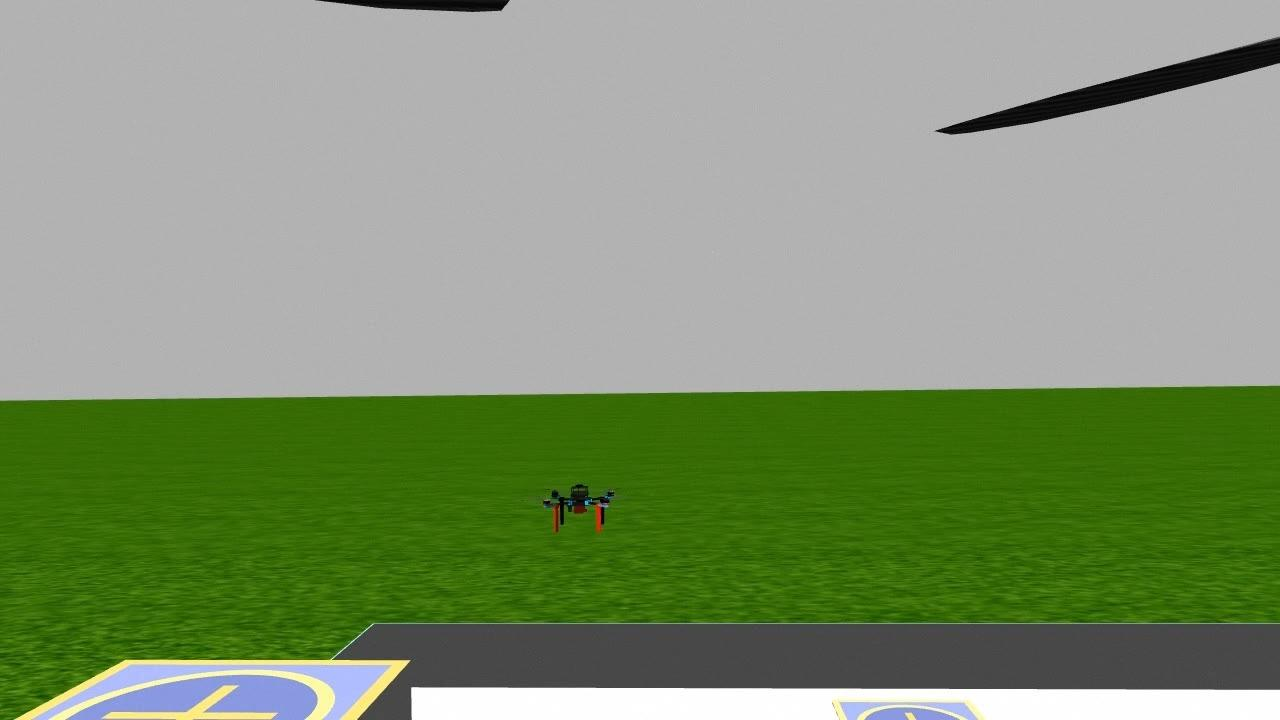UAV: (531, 469, 627, 550)
